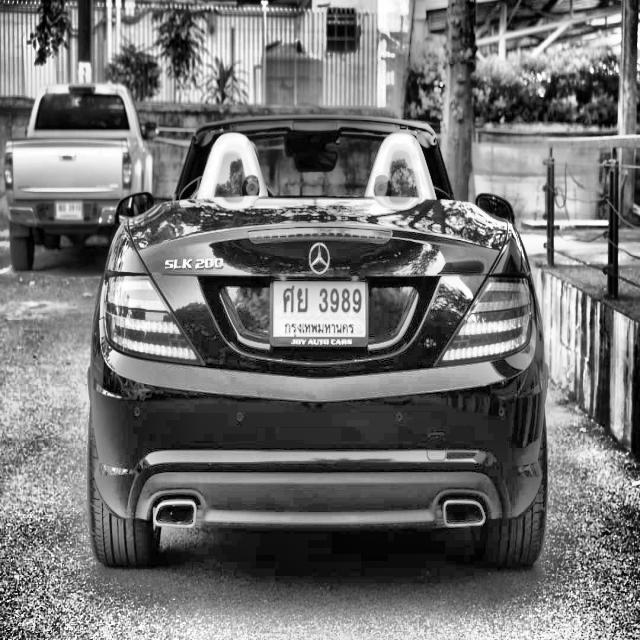license-plate: (268, 263, 370, 359)
